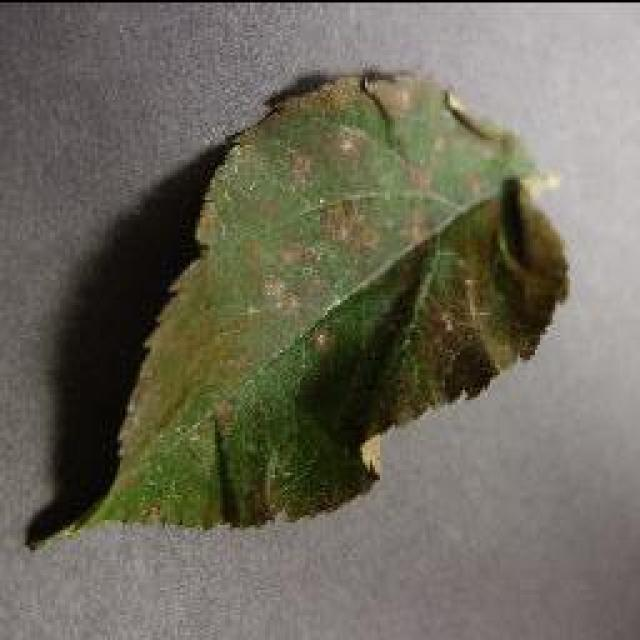apple cedar apple rust: (28, 68, 570, 548)
